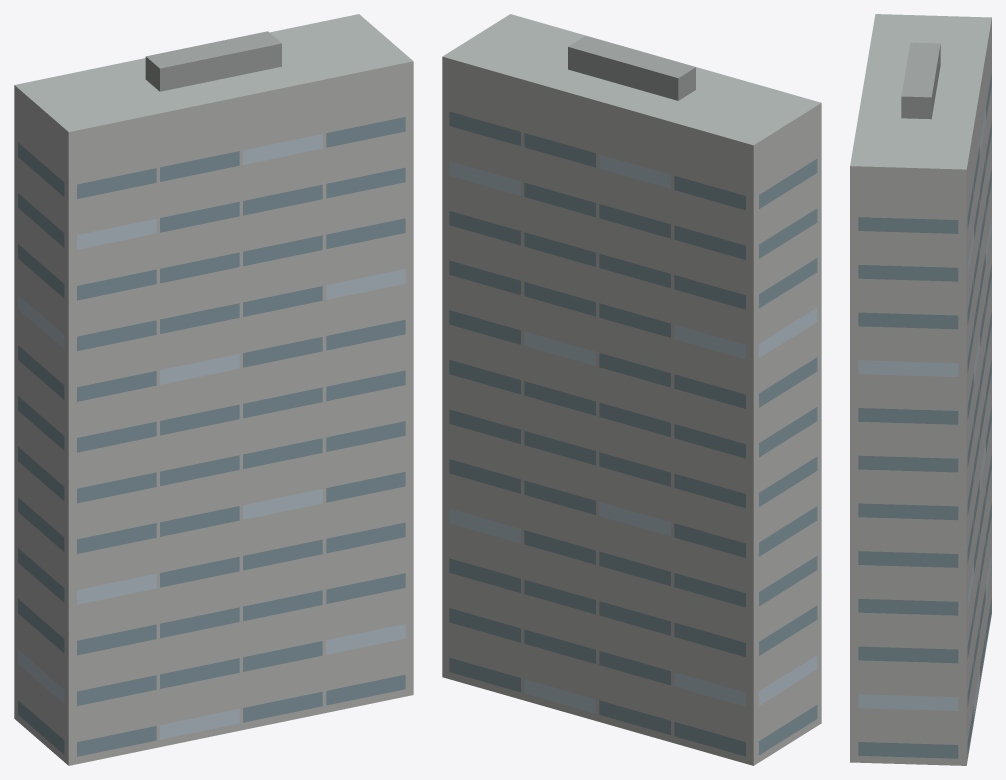
The model's file is fallback-sk-bukhansan-city-120.glb.
The picture shows the model from 3 angles, left to right: view 1: azimuth 30°, elevation 25°; view 2: azimuth 150°, elevation 25°; view 3: azimuth 270°, elevation 25°; orthographic projection. The views are drawn at different scales.
Visible parts, largest first — view 1: fallback-sk-bukhansan-city-120; view 2: fallback-sk-bukhansan-city-120; view 3: fallback-sk-bukhansan-city-120.
Boxes of the visible parts, x1,y1,x2,y2 form: fallback-sk-bukhansan-city-120: (14,14,413,765); fallback-sk-bukhansan-city-120: (442,14,821,765); fallback-sk-bukhansan-city-120: (850,14,991,765).
Size of the model in its own units: 36.71 by 68 by 14.15.
